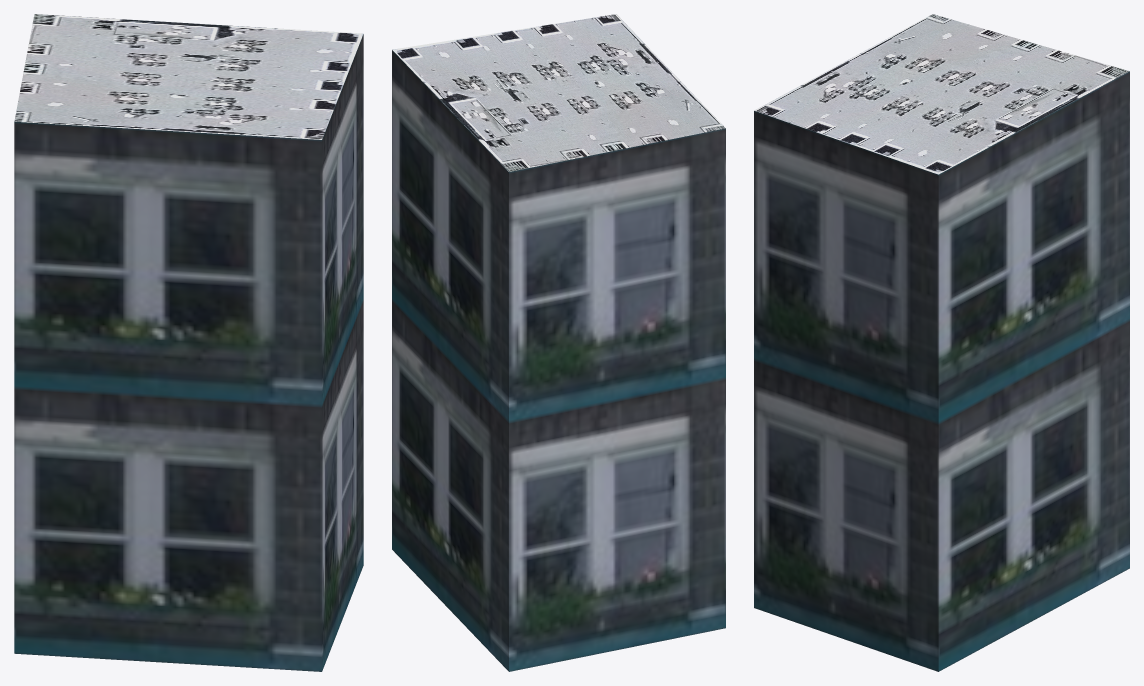
Rendered from ResTex__2268.fbx.
The picture shows the model from 3 angles, left to right: view 1: azimuth 30°, elevation 25°; view 2: azimuth 150°, elevation 25°; view 3: azimuth 270°, elevation 25°; orthographic projection. The views are drawn at different scales.
Parts seen in each view (by area): view 1: CityEngineMaterial_11_m, CityEngineMaterial_m; view 2: CityEngineMaterial_11_m, CityEngineMaterial_m; view 3: CityEngineMaterial_11_m, CityEngineMaterial_m.
Part boxes in pixels (<box>): CityEngineMaterial_11_m: <box>14,34,363,671</box>; CityEngineMaterial_m: <box>14,14,363,139</box>; CityEngineMaterial_11_m: <box>392,50,725,671</box>; CityEngineMaterial_m: <box>392,14,725,171</box>; CityEngineMaterial_11_m: <box>754,71,1129,671</box>; CityEngineMaterial_m: <box>754,14,1129,174</box>.
Size of the model in its own units: 4.16 by 6 by 4.11.
Materials: 2 (2 with a texture image).
